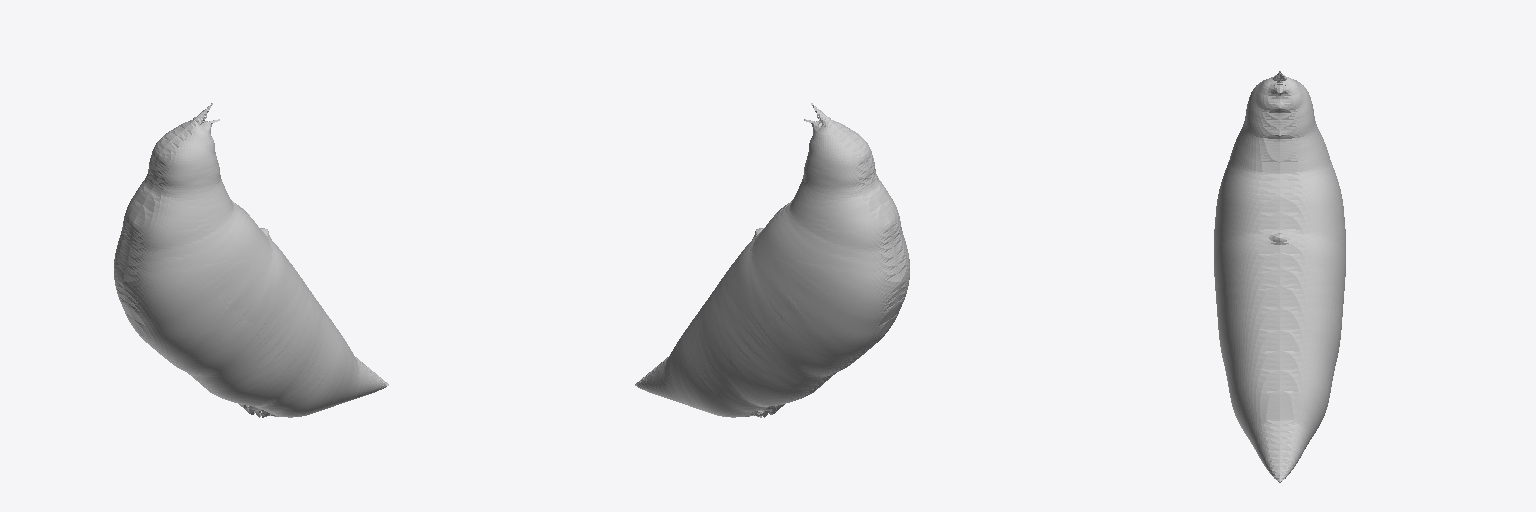
The model's file is bird.obj.
The picture shows the model from 3 angles: view 1: azimuth 30°, elevation 25°; view 2: azimuth 150°, elevation 25°; view 3: azimuth 270°, elevation 25°; orthographic projection.
Visible parts, largest first — view 1: mesh_id46; view 2: mesh_id46; view 3: mesh_id46.
Part boxes in pixels (x1,y1,x2,y2): mesh_id46: (114, 103, 388, 417); mesh_id46: (635, 103, 909, 417); mesh_id46: (1214, 71, 1345, 482).
Bounding box in the file's own units: 0.2196 × 0.2586 × 0.0945.